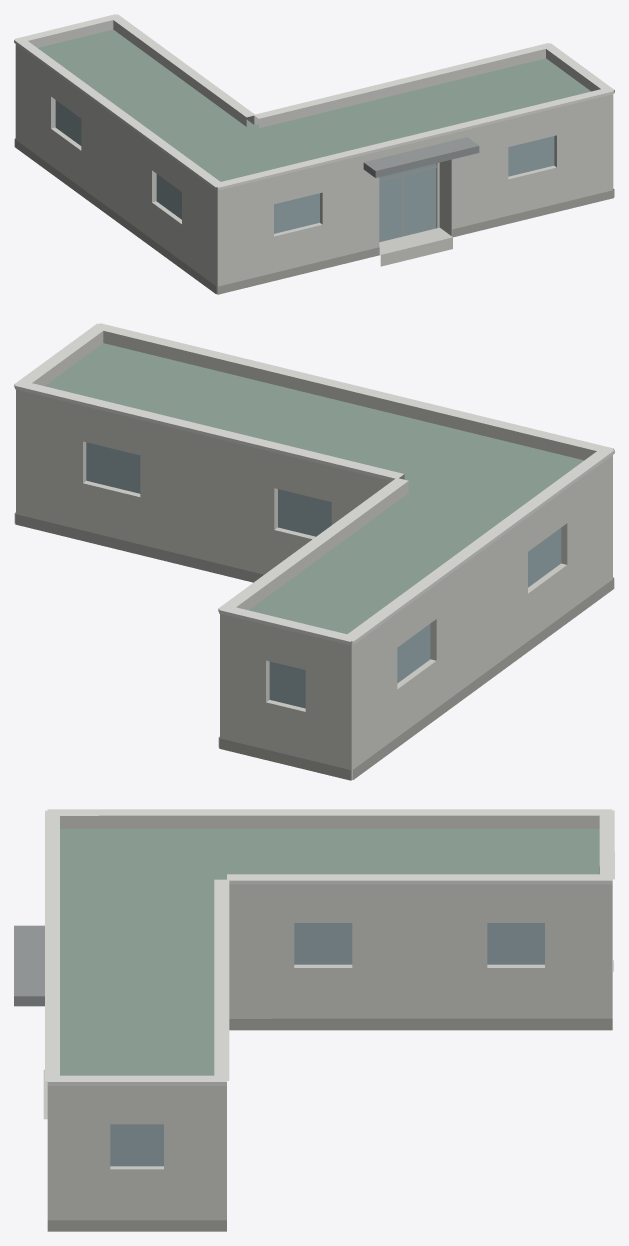
3 renders of one model, top to bottom at view 1: azimuth 30°, elevation 25°; view 2: azimuth 150°, elevation 25°; view 3: azimuth 270°, elevation 25°, orthographic. The views are drawn at different scales.
Parts seen in each view (by area): view 1: b1557353114__wall, b1557353114__roof, b1557353114__trim, b1557353114__parapet, b1557353114__glass, b1557353114__base, b1557353114__canopy, b1557353114__entranceThreshold_0; view 2: b1557353114__wall, b1557353114__roof, b1557353114__trim, b1557353114__parapet, b1557353114__glass, b1557353114__base; view 3: b1557353114__wall, b1557353114__roof, b1557353114__trim, b1557353114__parapet, b1557353114__glass, b1557353114__base, b1557353114__canopy.
Boxes of the visible parts, bbox=[...] form: b1557353114__wall: bbox=[15, 49, 613, 294]; b1557353114__roof: bbox=[38, 29, 590, 294]; b1557353114__trim: bbox=[14, 14, 614, 190]; b1557353114__parapet: bbox=[15, 20, 613, 196]; b1557353114__glass: bbox=[55, 100, 554, 242]; b1557353114__base: bbox=[14, 138, 614, 294]; b1557353114__canopy: bbox=[363, 137, 479, 177]; b1557353114__entranceThreshold_0: bbox=[379, 227, 452, 266]; b1557353114__wall: bbox=[16, 397, 612, 779]; b1557353114__roof: bbox=[45, 343, 583, 780]; b1557353114__trim: bbox=[14, 323, 614, 645]; b1557353114__parapet: bbox=[16, 331, 612, 653]; b1557353114__glass: bbox=[86, 442, 561, 708]; b1557353114__base: bbox=[14, 512, 614, 780]; b1557353114__wall: bbox=[47, 892, 612, 1220]; b1557353114__roof: bbox=[60, 829, 599, 1075]; b1557353114__trim: bbox=[45, 809, 614, 1085]; b1557353114__parapet: bbox=[47, 815, 612, 1094]; b1557353114__glass: bbox=[110, 923, 544, 1166]; b1557353114__base: bbox=[47, 960, 613, 1231]; b1557353114__canopy: bbox=[14, 925, 44, 1006].
Size of the model in its own units: 15.4 by 4.35 by 14.35.
